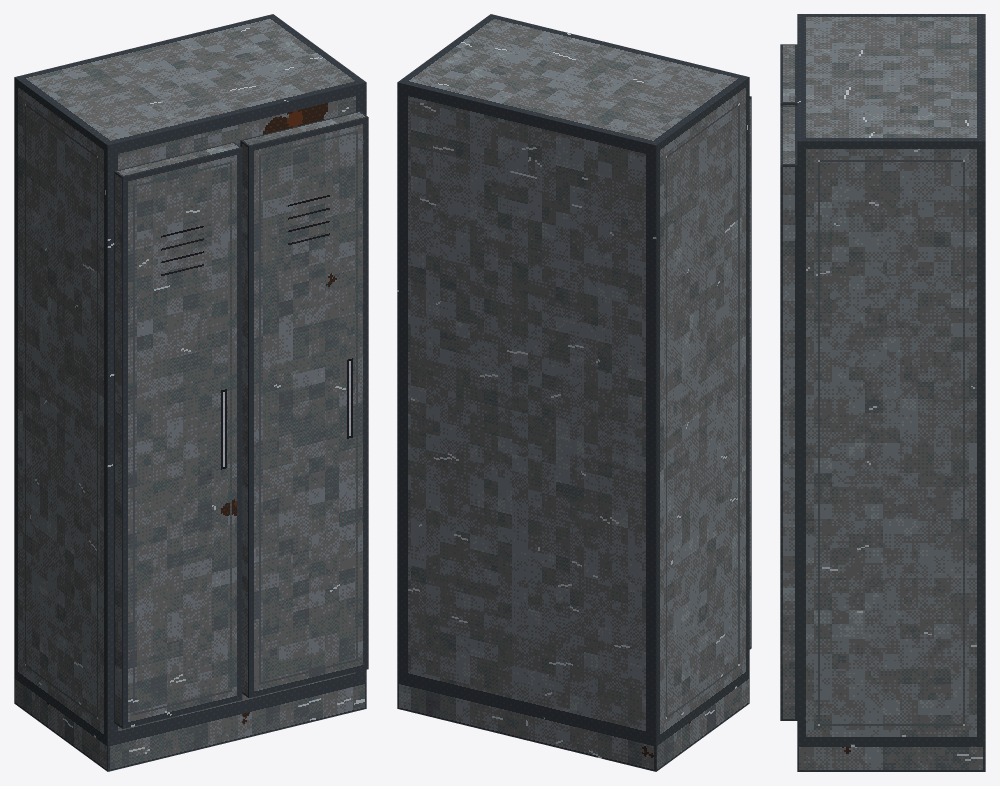
The model's file is SM_Locker_Steel_01.glb.
3 views of the same model, side by side, from view 1: azimuth 30°, elevation 25°; view 2: azimuth 150°, elevation 25°; view 3: azimuth 270°, elevation 25° (orthographic).
Parts seen in each view (by area): view 1: SM_Locker_Steel_01; view 2: SM_Locker_Steel_01; view 3: SM_Locker_Steel_01.
Boxes of the visible parts, x1,y1,x2,y2 form: SM_Locker_Steel_01: [14, 14, 368, 771]; SM_Locker_Steel_01: [397, 14, 751, 771]; SM_Locker_Steel_01: [780, 14, 985, 771].
Size of the model in its own units: 0.8 by 1.85 by 0.545.
1 material, 1 textured.
